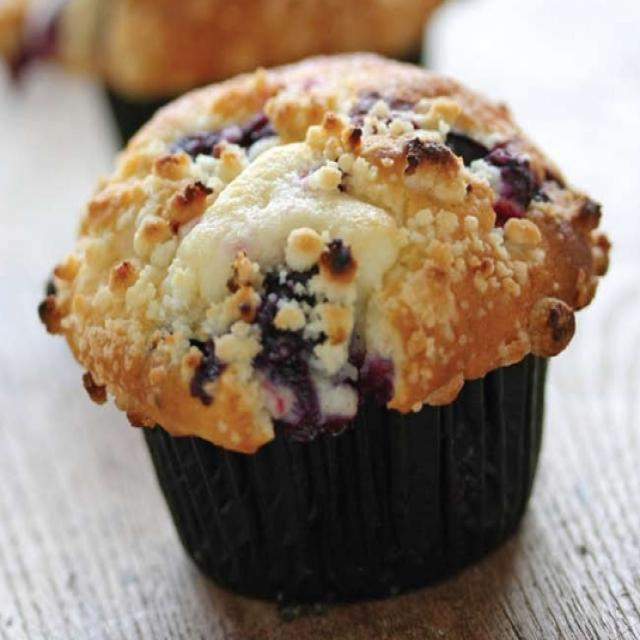炸货点心: (30, 43, 617, 607)
面包点心: (30, 43, 617, 607)
